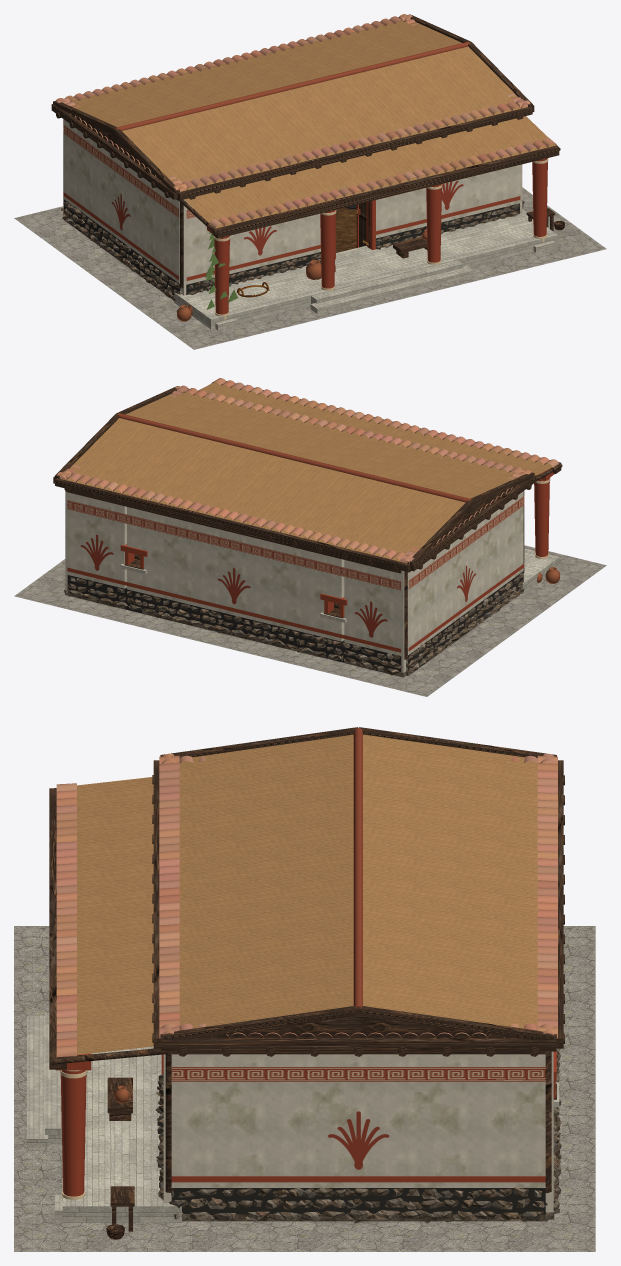
The model's file is library.glb.
The picture shows the model from 3 angles, top to bottom: view 1: azimuth 30°, elevation 25°; view 2: azimuth 150°, elevation 25°; view 3: azimuth 270°, elevation 25°; orthographic projection. The views are drawn at different scales.
Parts seen in each view (by area): view 1: part_17, part_4, part_6, part_7, part_0, part_19, part_5, part_3, part_20, part_18, part_22, part_21 (+3 smaller); view 2: part_17, part_4, part_0, part_7, part_19, part_3, part_22, part_20, part_5, part_18, part_21, part_6; view 3: part_17, part_4, part_0, part_7, part_19, part_6, part_3, part_5, part_22, part_20, part_18, part_21.
Boxes of the visible parts, x1,y1,x2,y2 form: part_17: (71, 20, 556, 228); part_4: (63, 119, 522, 295); part_6: (174, 209, 557, 330); part_7: (51, 14, 560, 288); part_0: (14, 187, 606, 349); part_19: (56, 14, 556, 228); part_5: (63, 158, 547, 314); part_3: (61, 200, 524, 301); part_20: (64, 199, 519, 295); part_18: (116, 41, 470, 130); part_22: (63, 124, 200, 218); part_21: (111, 181, 463, 255); part_17: (60, 382, 554, 563); part_4: (65, 491, 524, 672); part_0: (14, 545, 606, 696); part_7: (53, 381, 562, 659); part_19: (57, 378, 558, 564); part_3: (64, 573, 524, 677); part_22: (67, 496, 524, 590); part_20: (67, 571, 523, 675); part_5: (67, 469, 554, 652); part_18: (117, 413, 471, 502); part_21: (80, 534, 475, 637); part_6: (120, 548, 559, 622); part_17: (66, 734, 537, 1056); part_4: (163, 1051, 553, 1212); part_0: (14, 926, 595, 1251); part_7: (49, 727, 564, 1231); part_19: (56, 753, 557, 1056); part_6: (27, 1013, 559, 1222); part_3: (155, 1048, 561, 1223); part_5: (56, 1051, 556, 1196); part_22: (171, 1067, 545, 1081); part_20: (171, 1188, 545, 1213); part_18: (353, 727, 362, 1009); part_21: (328, 1111, 389, 1169).
Size of the model in its own units: 9.04 by 2.94 by 6.95.
25 materials, 14 textured.
